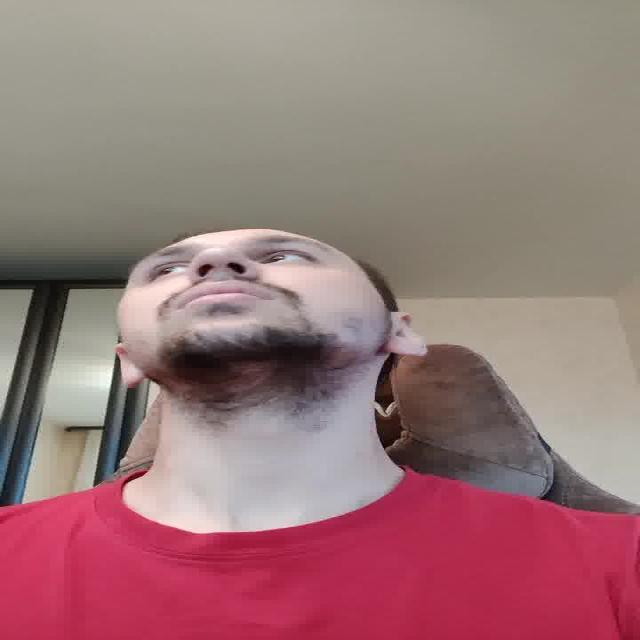earlobe: (387, 343, 429, 358), (121, 372, 143, 389)
eye: (256, 251, 319, 264), (143, 262, 186, 277)
nose: (187, 269, 260, 284)
wholeear: (384, 309, 431, 359), (115, 341, 148, 388)
